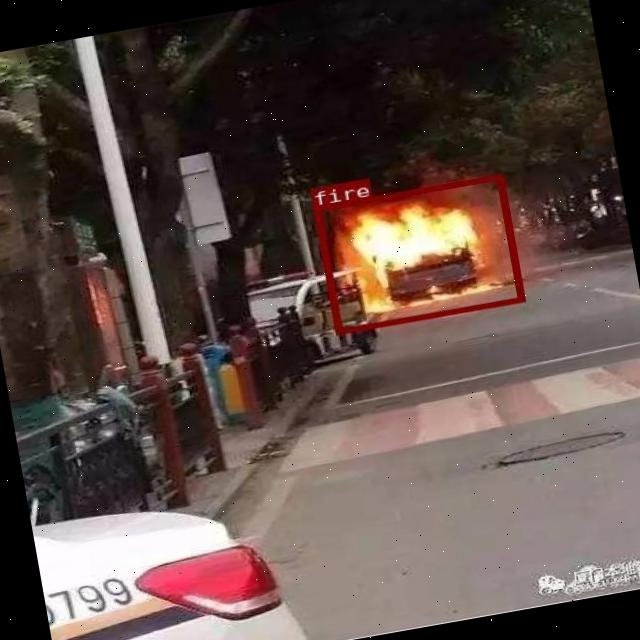fire: (312, 174, 522, 332)
